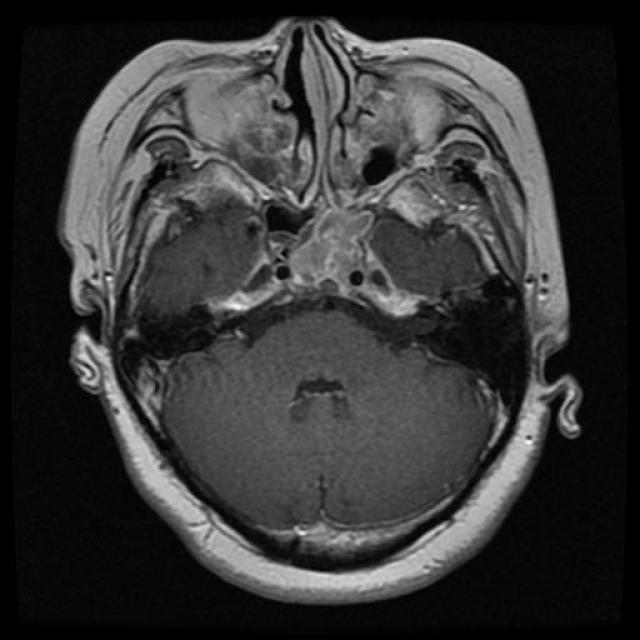pituitary: (288, 216, 388, 306)
